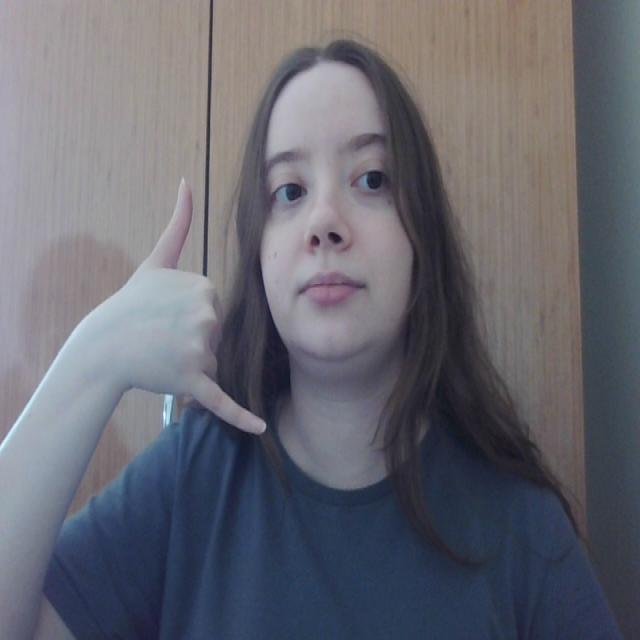Telefon: (143, 168, 272, 442)
